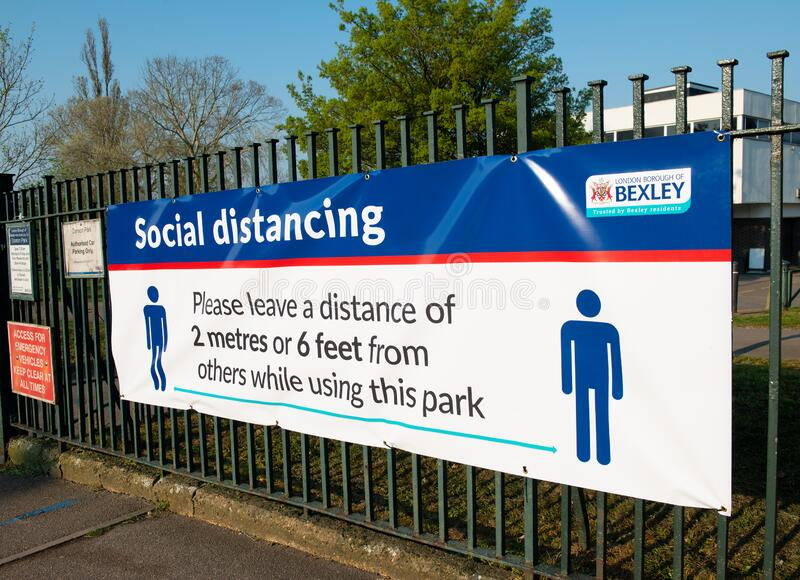vinyl banner: (91, 127, 741, 524)
